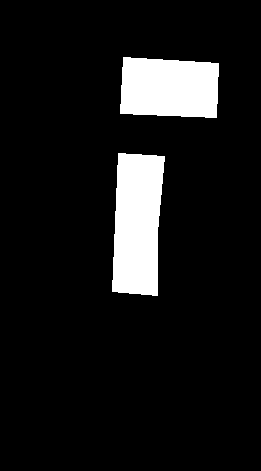parkingspot: (112, 153, 164, 295), (120, 57, 218, 117)
